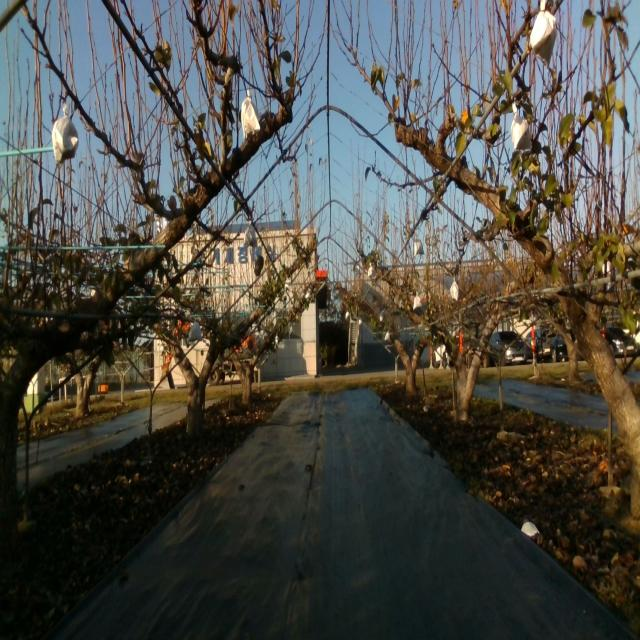pearbags: (50, 104, 81, 166), (528, 6, 558, 66), (240, 90, 260, 138), (512, 100, 532, 148), (186, 320, 202, 343), (243, 224, 257, 248)
